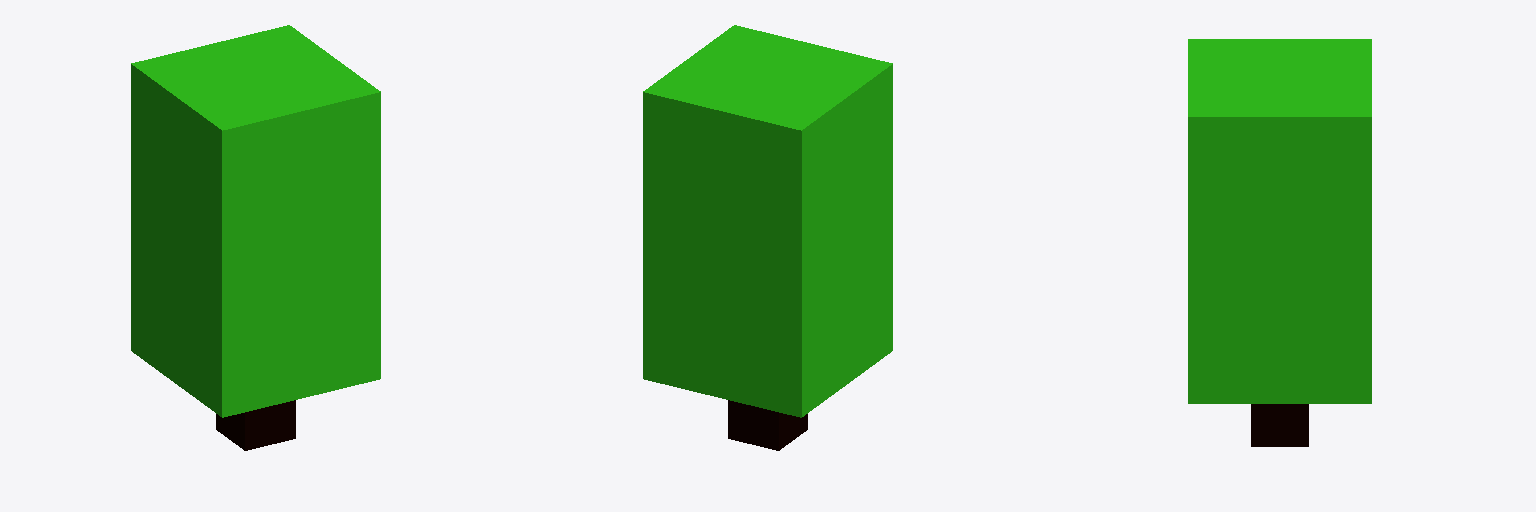
File: simple cubic tree.obj
3 renders of one model, left to right at view 1: azimuth 30°, elevation 25°; view 2: azimuth 150°, elevation 25°; view 3: azimuth 270°, elevation 25°, orthographic.
Parts seen in each view (by area): view 1: Tree__LOD2_Cube.004; view 2: Tree__LOD2_Cube.004; view 3: Tree__LOD2_Cube.004.
Boxes of the visible parts, box(x1,y1,x2,y2) form: Tree__LOD2_Cube.004: box(131, 25, 380, 450); Tree__LOD2_Cube.004: box(643, 25, 892, 450); Tree__LOD2_Cube.004: box(1188, 39, 1371, 446).
Size of the model in its own units: 2.5 by 5.36 by 2.5.